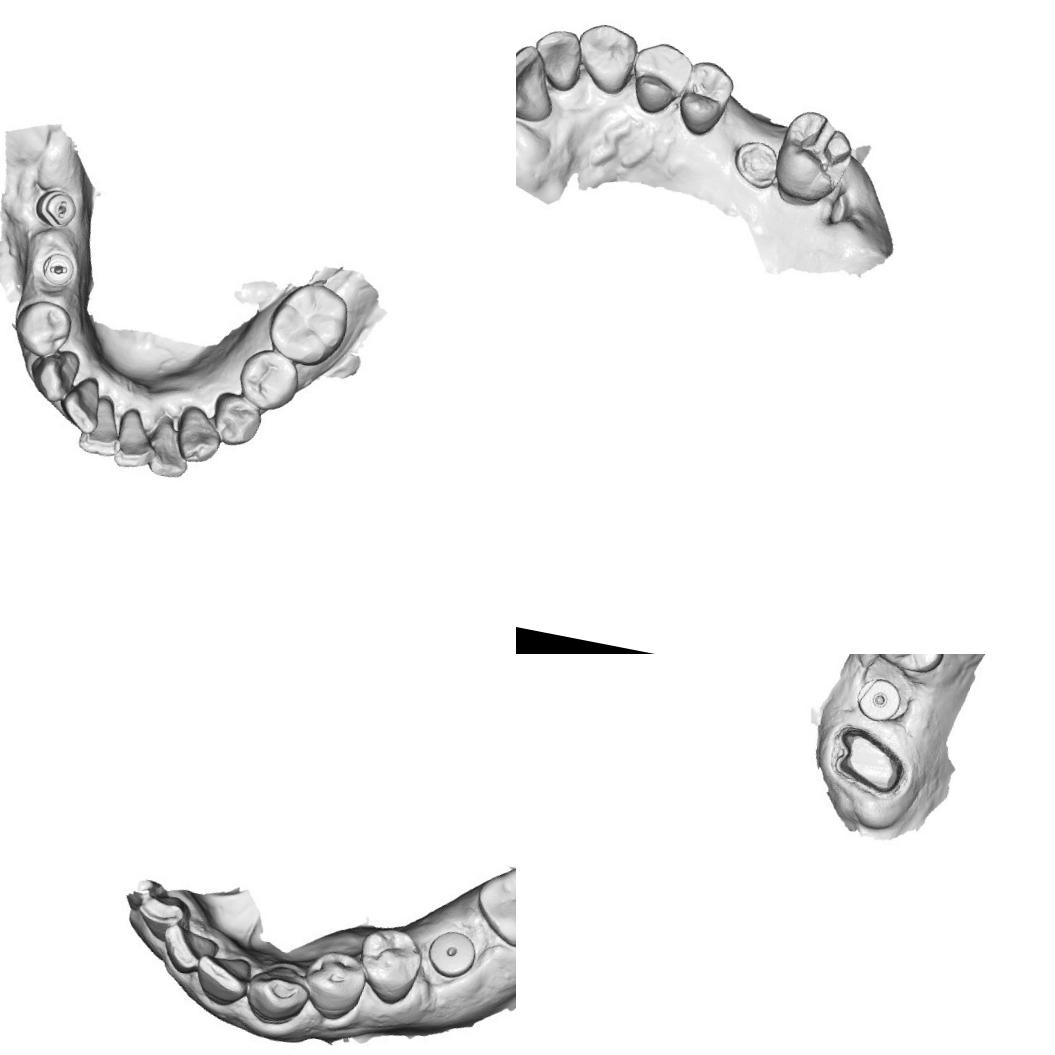canine: (569, 17, 642, 99), (242, 960, 316, 1032), (172, 403, 228, 469), (28, 344, 83, 407)
crown: (826, 725, 910, 798)
implant: (849, 672, 908, 728), (426, 924, 479, 981)
implant_minus: (29, 182, 81, 235), (33, 243, 82, 295)
incisor: (516, 37, 567, 129), (526, 23, 591, 95), (192, 946, 260, 1008), (143, 415, 196, 482), (110, 404, 160, 472), (75, 397, 128, 460), (162, 919, 220, 976), (57, 372, 106, 436), (140, 884, 192, 940)
inlay: (776, 109, 858, 195)
molar: (261, 273, 359, 370), (465, 851, 516, 956)
premolar: (621, 34, 696, 120), (673, 55, 739, 141), (230, 343, 302, 413), (302, 949, 370, 1021), (359, 928, 424, 1002), (7, 294, 78, 361), (205, 387, 267, 452), (865, 654, 949, 678)
